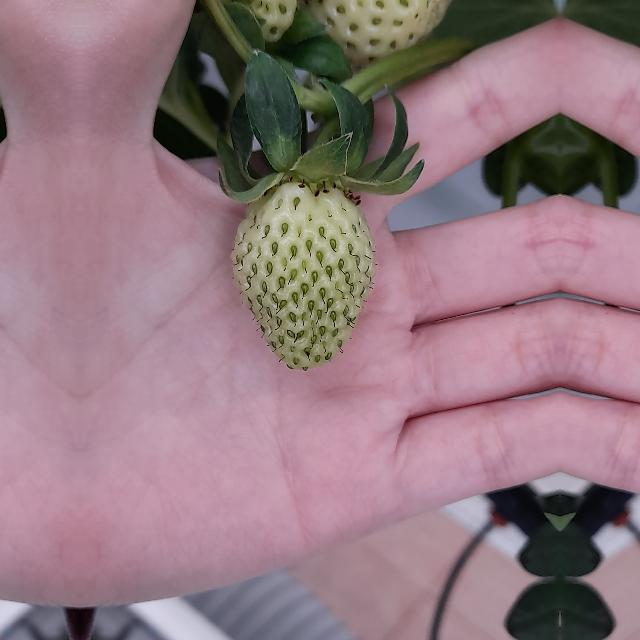Health_25: (230, 181, 376, 371)
